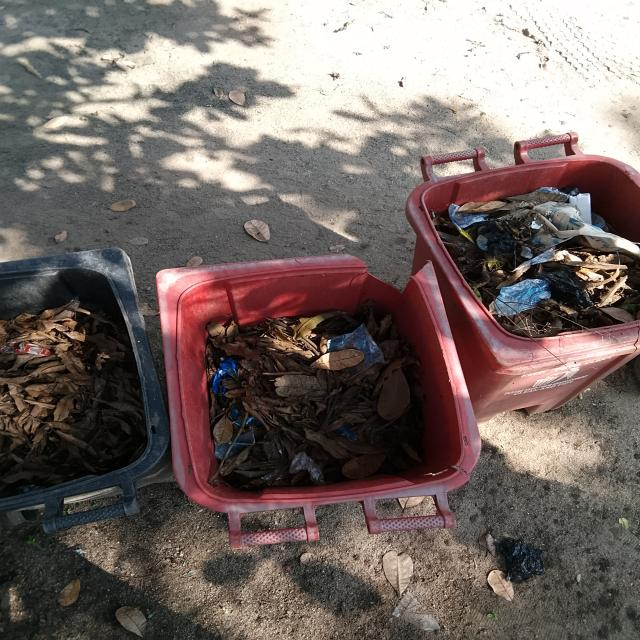half-full: (152, 258, 487, 507), (404, 154, 640, 378), (0, 242, 165, 516)
